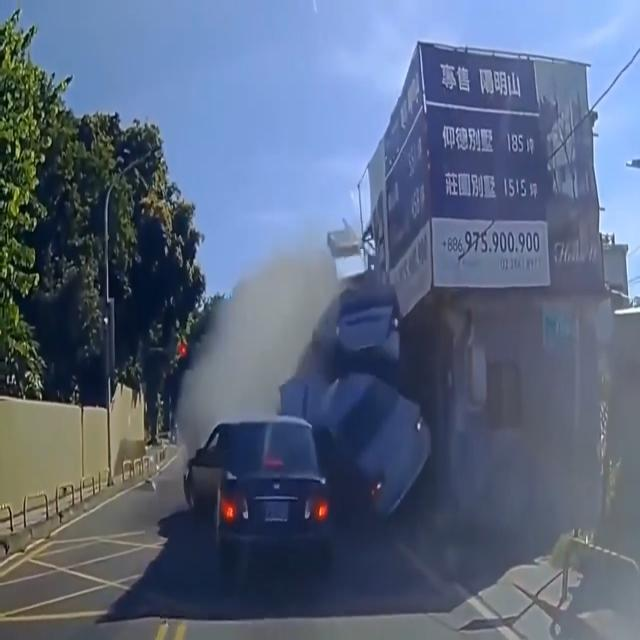accident: (192, 240, 467, 514)
